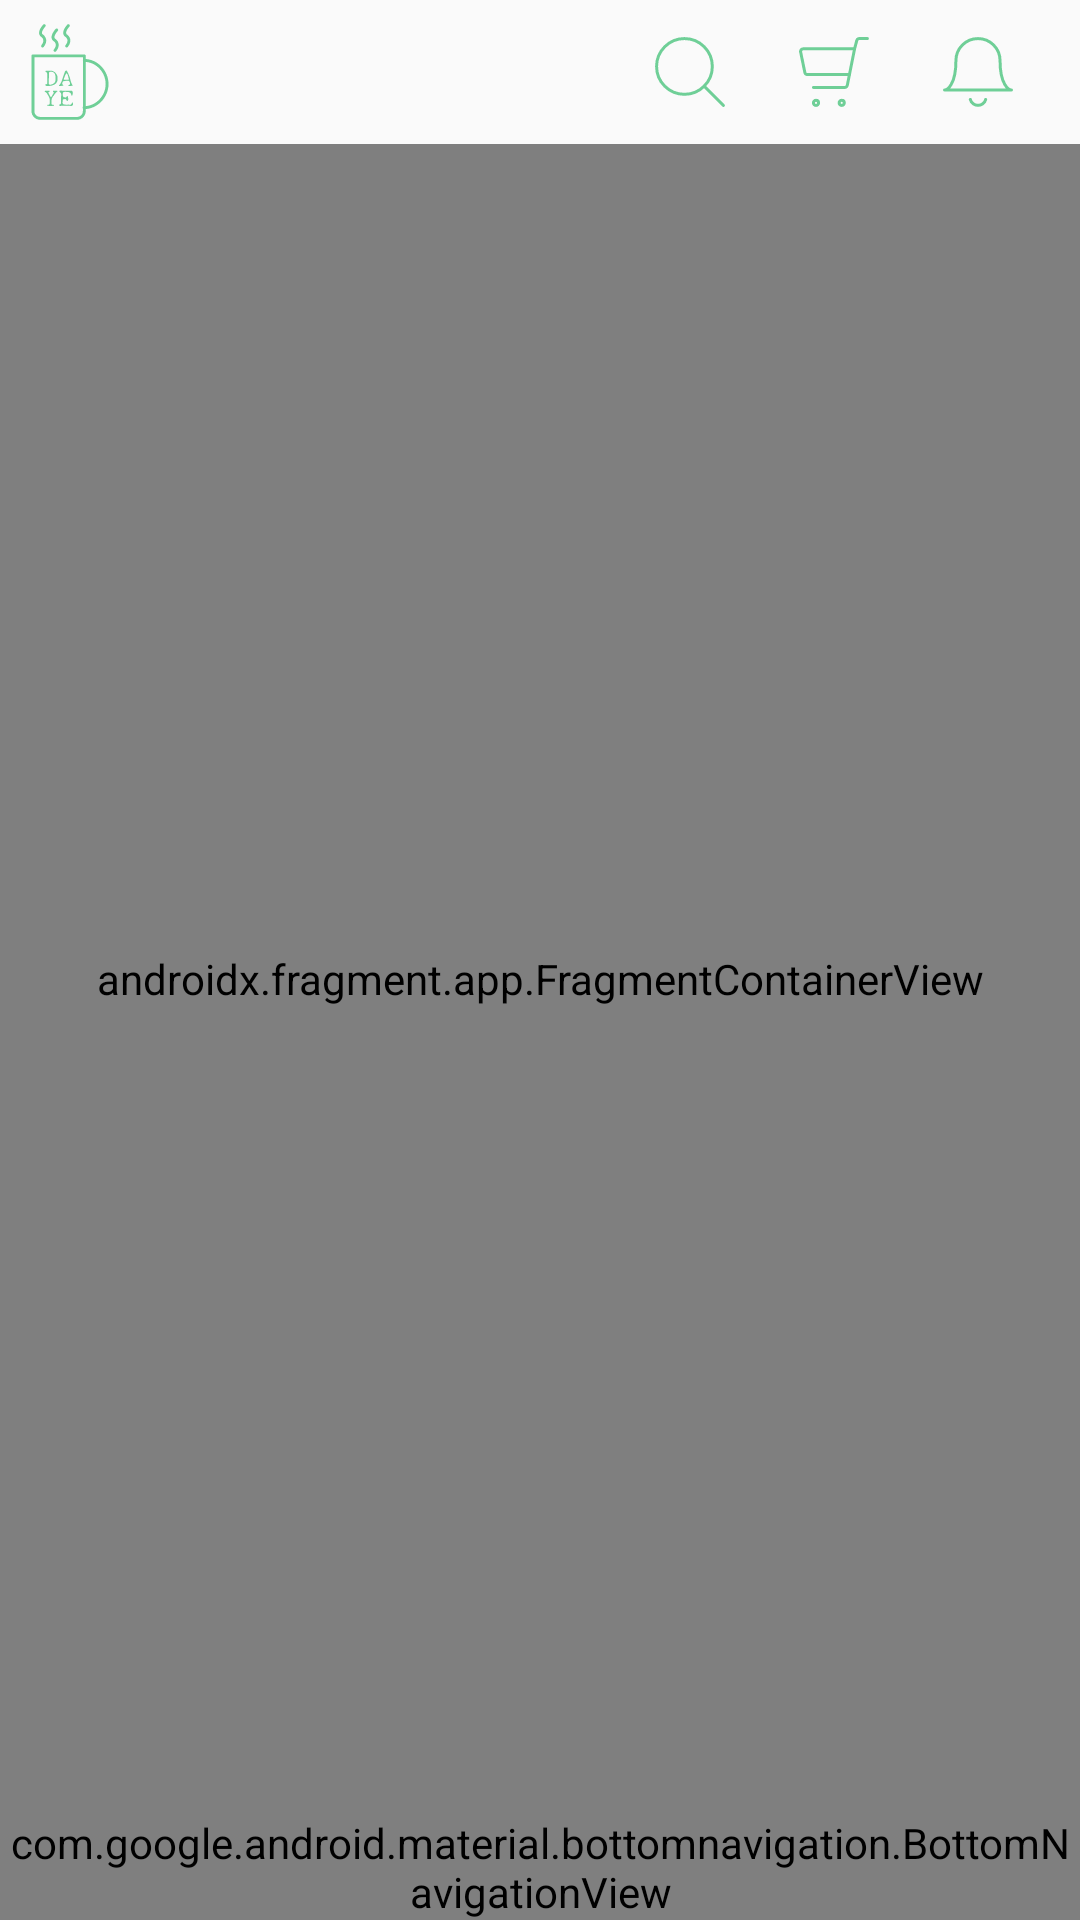

Screen size 1080 x 1920. Icon name, then its center in pixels as [x,y]:
alarm: [978,72]
cart: [834,72]
search: [690,72]
